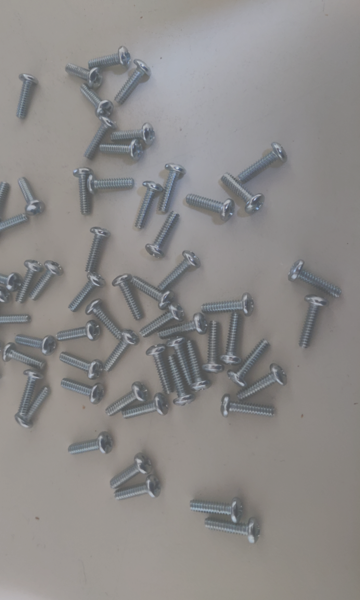shortscrew: (227, 339, 271, 388), (289, 260, 343, 298), (238, 143, 288, 183), (236, 364, 288, 401), (221, 171, 265, 214), (114, 59, 152, 105), (139, 302, 185, 339), (159, 251, 200, 292), (147, 210, 181, 259), (299, 295, 329, 350), (129, 276, 176, 311), (204, 517, 262, 545), (68, 272, 107, 313), (106, 382, 150, 418), (104, 329, 140, 372), (112, 273, 144, 321), (84, 115, 117, 161), (85, 299, 122, 340), (15, 387, 51, 429), (110, 454, 153, 489), (135, 181, 165, 231), (166, 355, 195, 406), (190, 497, 244, 524), (29, 261, 65, 301), (159, 163, 187, 214), (184, 341, 212, 392), (166, 336, 194, 387), (146, 345, 174, 395), (187, 193, 235, 222), (158, 313, 208, 340), (201, 321, 226, 374), (59, 352, 104, 381), (114, 475, 161, 502), (16, 260, 44, 305), (219, 313, 243, 365), (221, 395, 275, 418), (2, 343, 46, 371), (122, 393, 169, 419), (84, 227, 110, 274), (201, 293, 254, 316), (68, 431, 114, 456), (19, 370, 44, 416), (61, 379, 105, 405), (65, 62, 104, 91), (79, 85, 113, 118), (18, 177, 46, 217), (15, 74, 39, 120), (88, 46, 132, 71), (87, 175, 135, 196), (73, 167, 93, 216), (112, 123, 156, 145), (100, 140, 143, 162), (57, 321, 101, 342), (15, 335, 57, 356), (0, 213, 28, 239), (0, 311, 32, 331), (0, 270, 24, 292), (0, 181, 11, 225), (0, 286, 12, 323), (0, 343, 2, 384), (0, 323, 2, 357)
